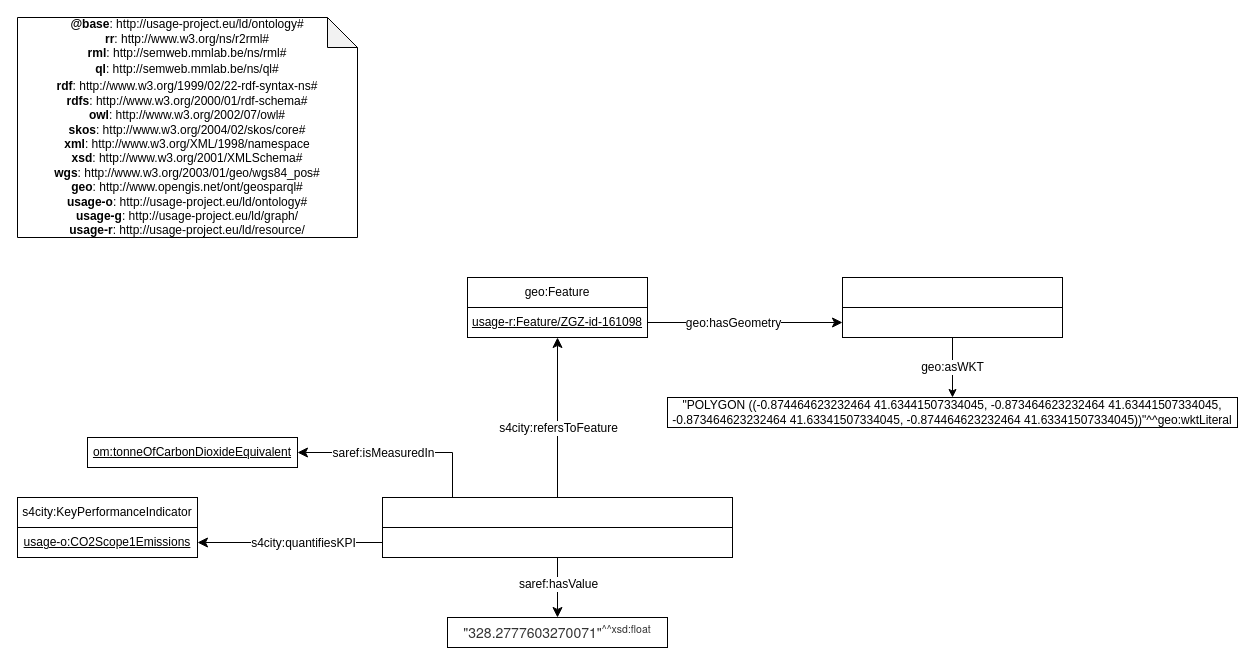
This 1255x665 diagram has some shape labels left out. The centre of each missing label's shape, as x and y in pixels:
"geo:Geometry" goes at [952,292].
"s4city:KeyPerformanceIndicatorAssessment" goes at [557,512].
"usage-r:Geometry/ZGZ-id-161098" goes at [952,322].
"usage-r:KeyPerformanceIndicatorAssessment/ZGZ-id-161098" goes at [557,542].
